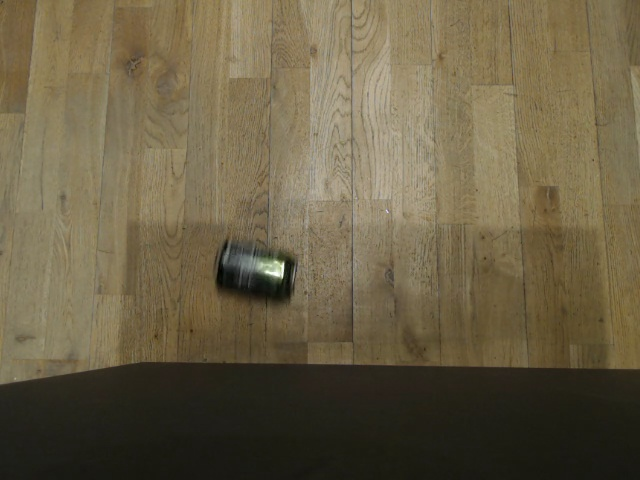beer: (210, 235, 301, 311)
